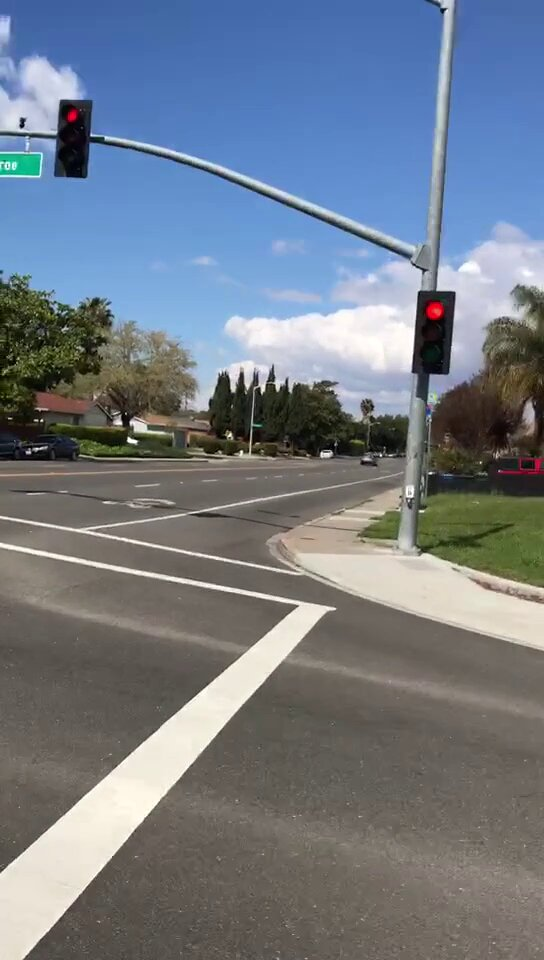red_light: (58, 100, 90, 177), (420, 292, 450, 372)
